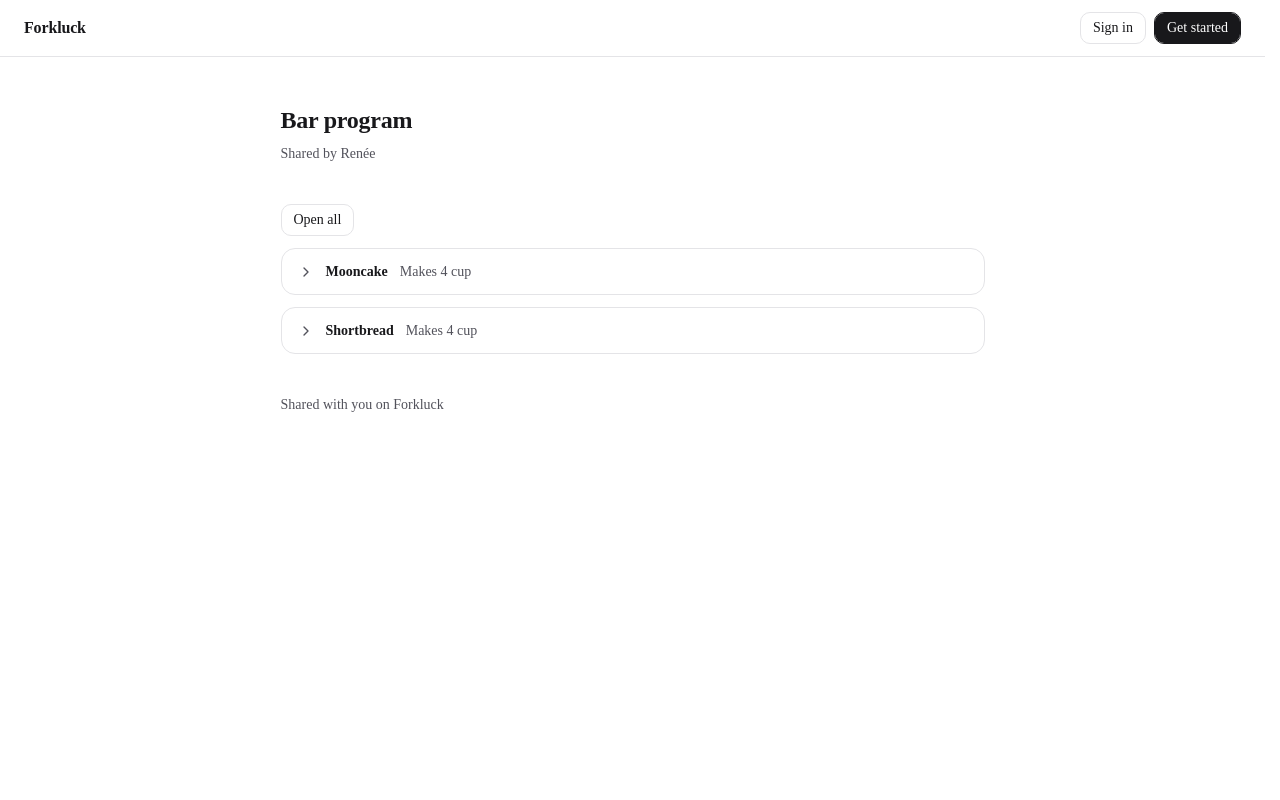
Test: a shared recipe book › gives every open sheet its own batch
Click the button "Open all" at (317, 220), box left=280, top=204, right=354, bottom=236
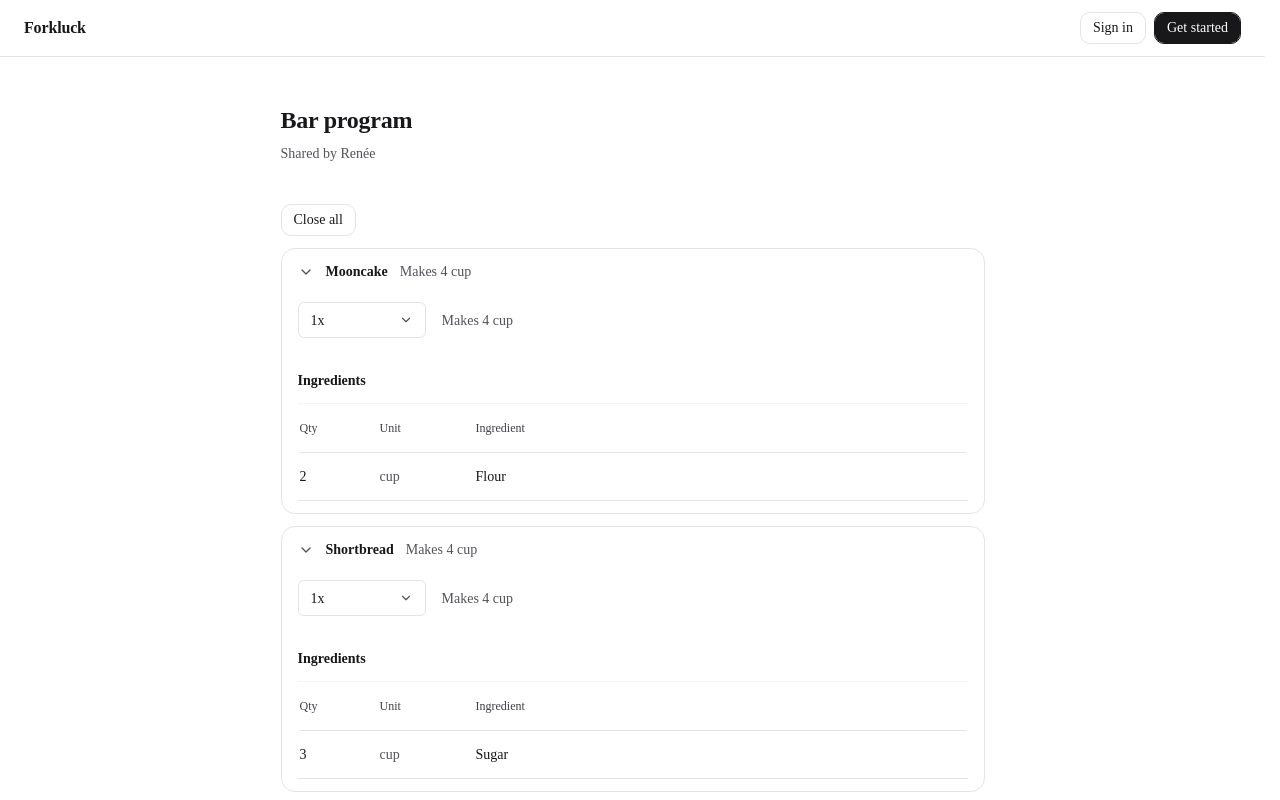
Click the button named "Batch size" at (362, 320), box left=298, top=302, right=426, bottom=338
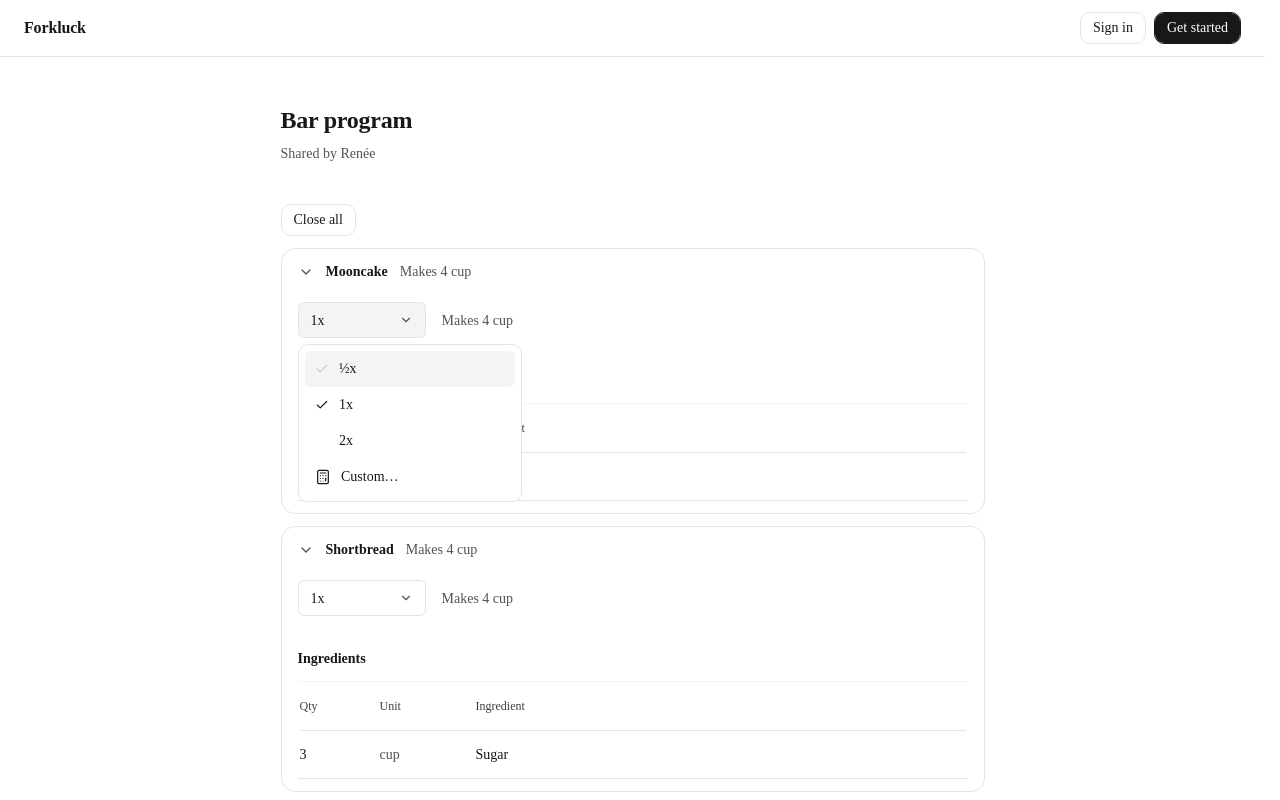
Click the menu item "2x" at (346, 440), box left=339, top=433, right=353, bottom=448
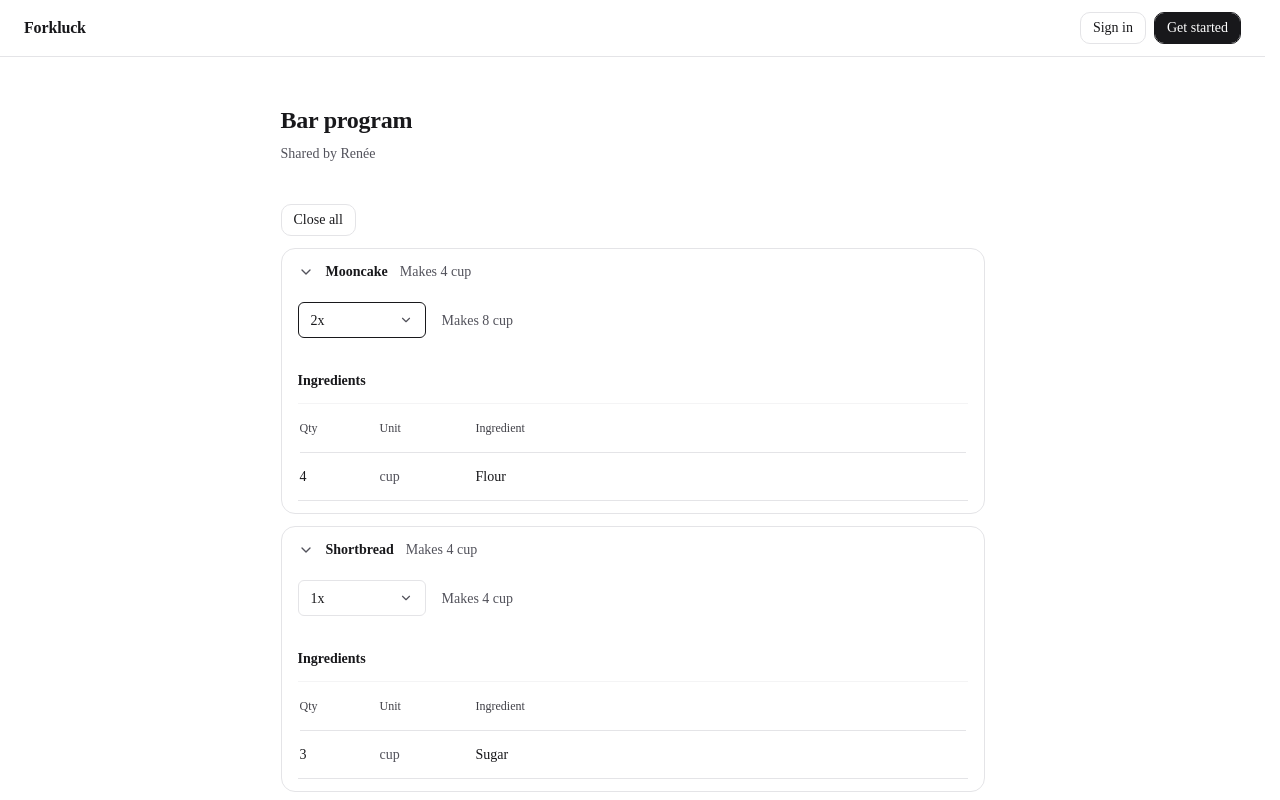
Expected: the text "3" is shown, left=300, top=730, right=380, bottom=778
Expected: the text "4" is shown, left=300, top=452, right=380, bottom=500
Expected: the text "Makes 8 cup" is shown, left=442, top=310, right=513, bottom=330
